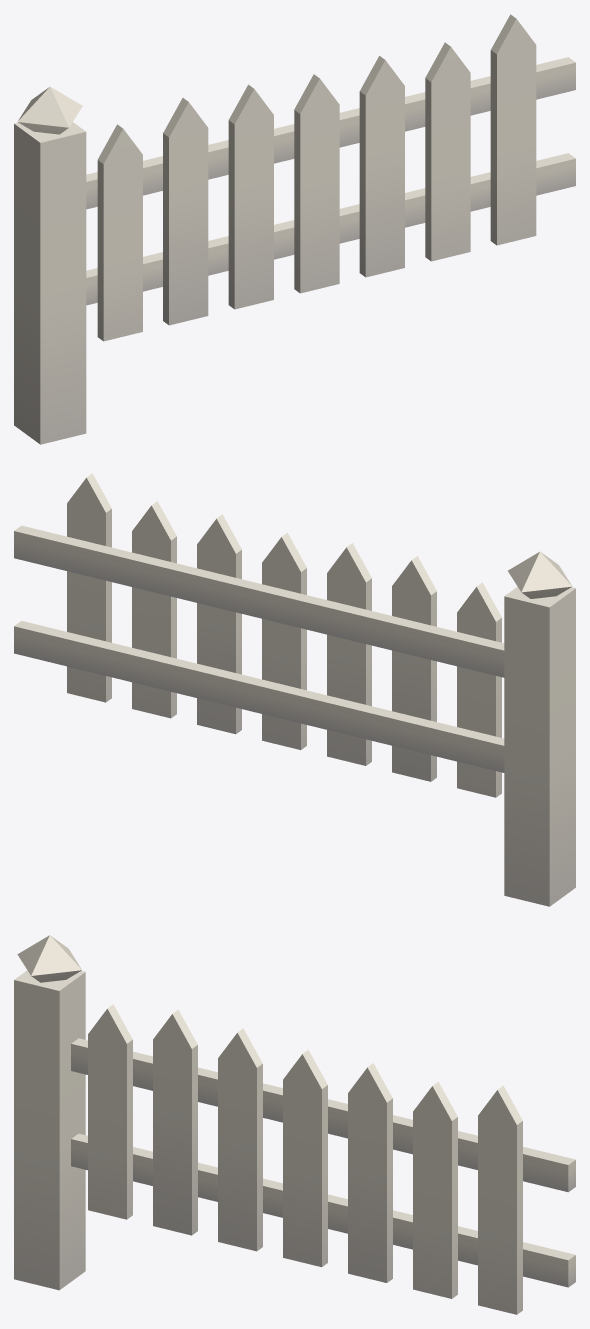
The model's file is fence_picket.glb.
The picture shows the model from 3 angles, top to bottom: view 1: azimuth 30°, elevation 25°; view 2: azimuth 150°, elevation 25°; view 3: azimuth 330°, elevation 25°; orthographic projection.
Parts seen in each view (by area): view 1: fence_picket; view 2: fence_picket; view 3: fence_picket.
Boxes of the visible parts, left/top/right/bottom form: fence_picket: left=14, top=14, right=575, bottom=444; fence_picket: left=14, top=473, right=575, bottom=906; fence_picket: left=14, top=935, right=575, bottom=1314.
Size of the model in its own units: 8.5 by 5 by 1.
1 material, 1 textured.
